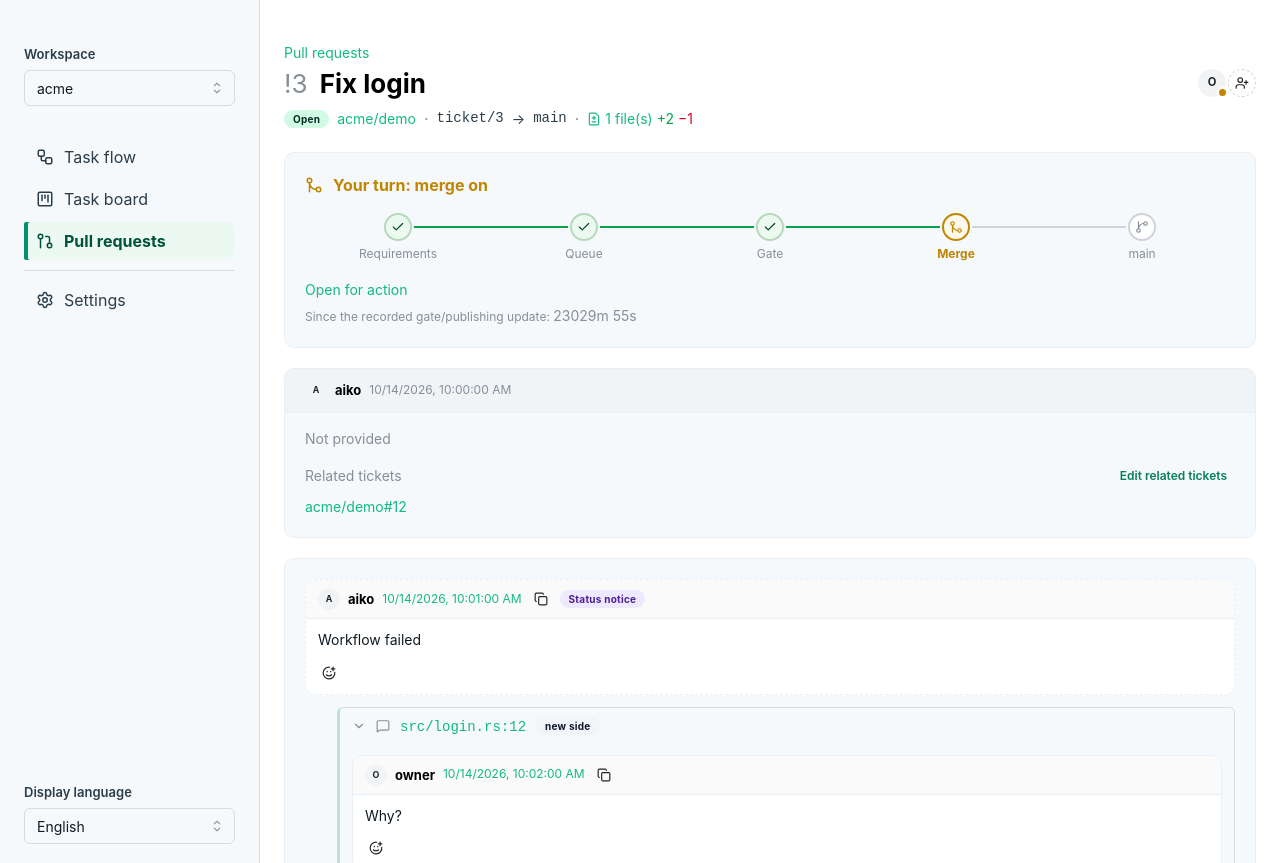
Test: related ticket editor › keeps the opened revision across events, explains a conflict, and reopens on the latest state (en)
Step 1. Click the button "Edit related tickets" → (1173, 476), box left=1112, top=465, right=1235, bottom=487
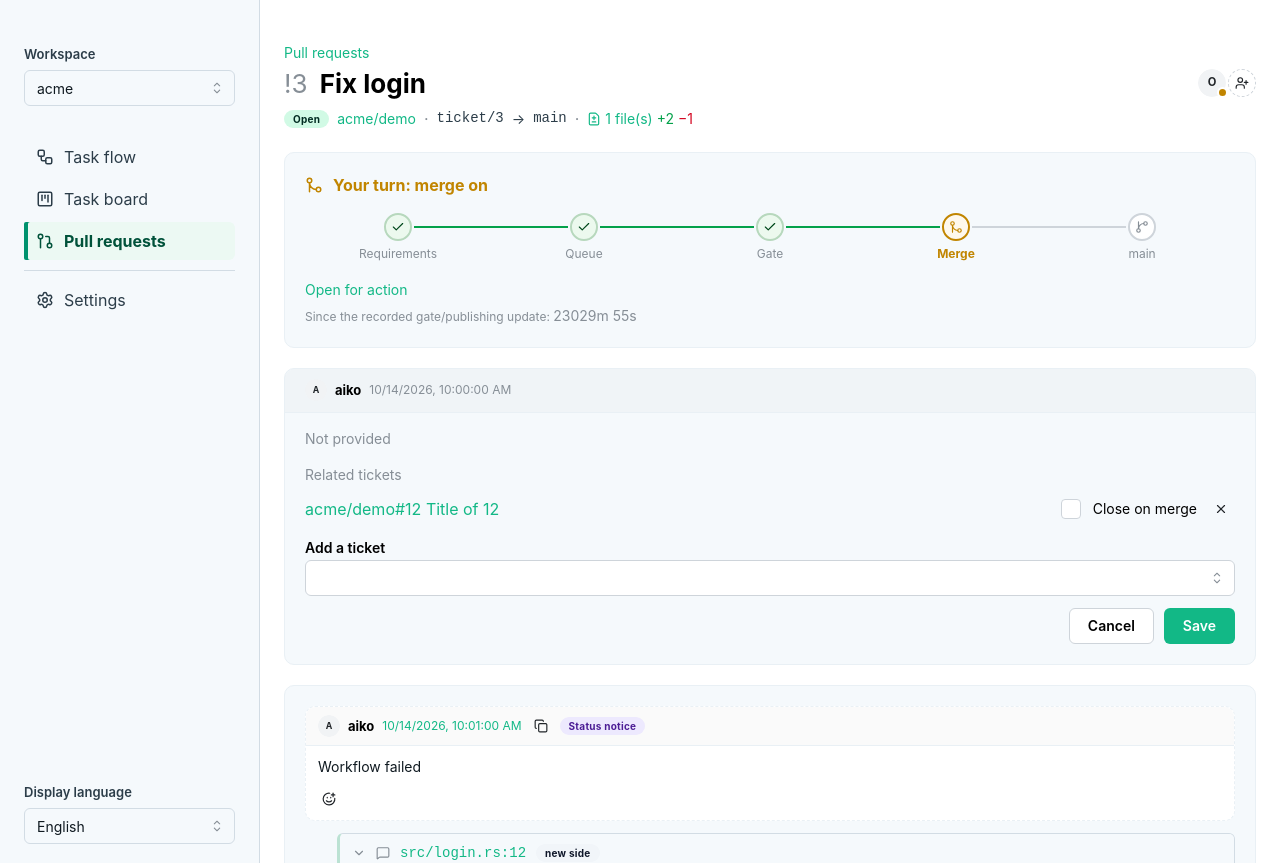
Expected: the checkbox is not checked, left=1061, top=499, right=1081, bottom=519
Step 2. Click the button "Save" → (1199, 626), box left=1164, top=608, right=1235, bottom=644
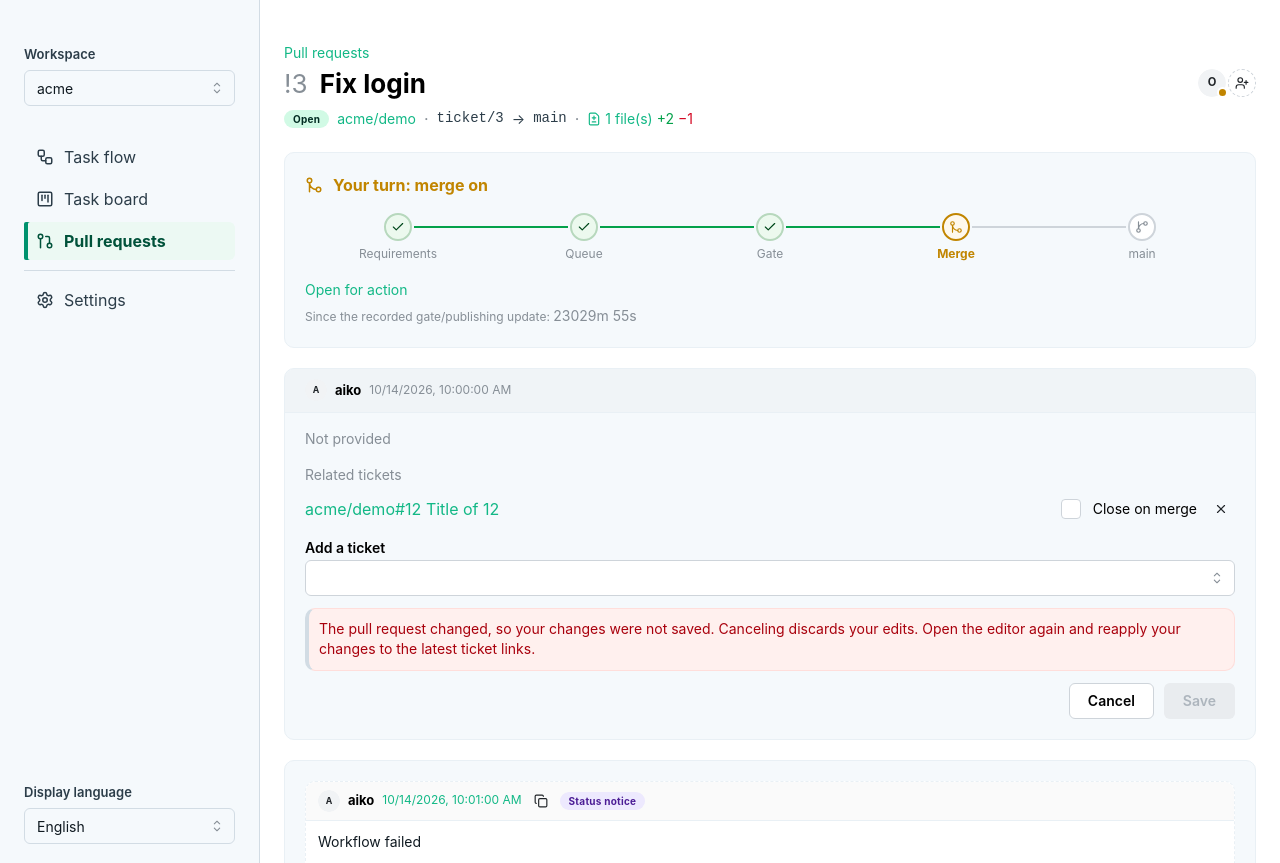
Expected: the message shows "Canceling discards your edits", left=319, top=620, right=1181, bottom=657
Expected: the message shows "reapply your changes", left=319, top=620, right=1181, bottom=657
Expected: the button "Save" is disabled, left=1164, top=682, right=1235, bottom=718
Step 3. Click the button "Cancel" → (1111, 700), box left=1069, top=682, right=1154, bottom=718
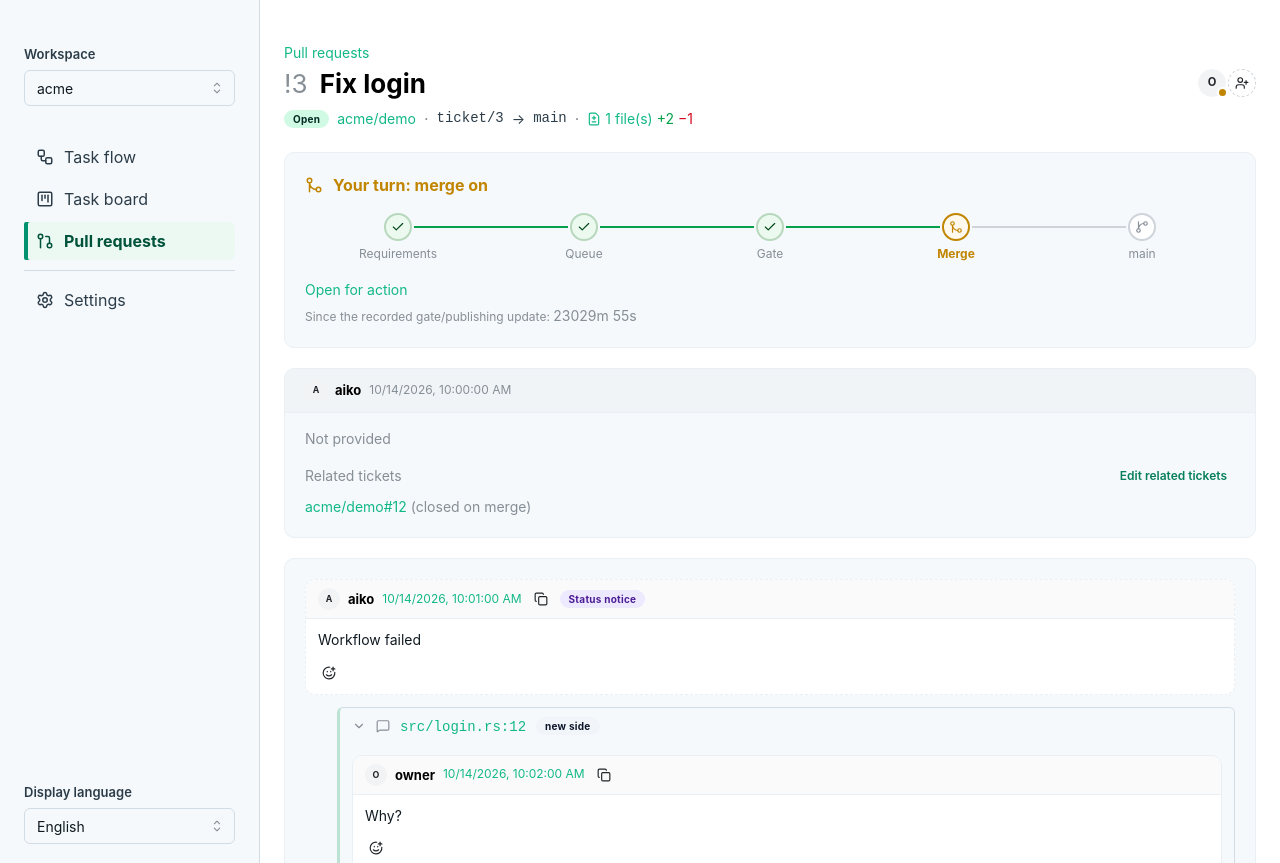
Step 4. Click the button "Edit related tickets" → (1173, 476), box left=1112, top=465, right=1235, bottom=487
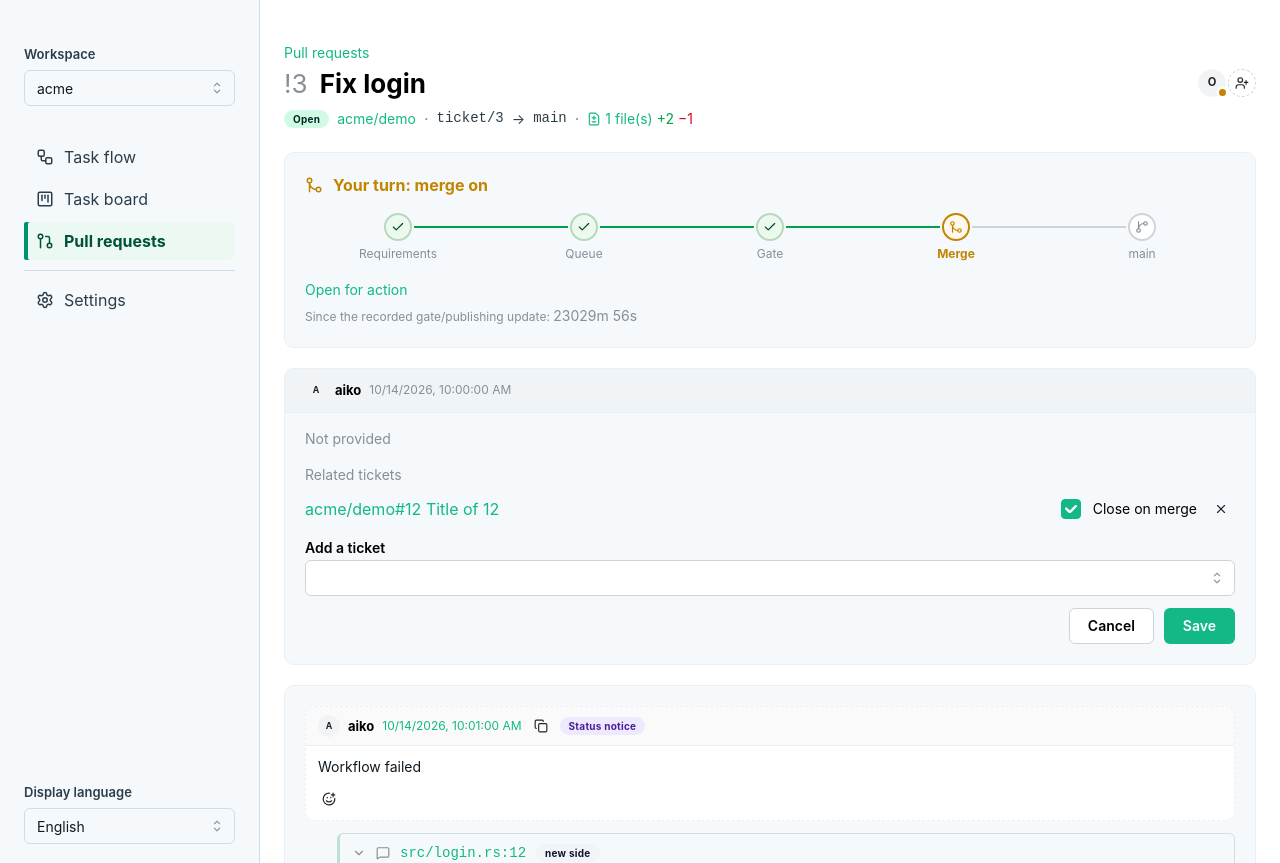
Expected: the checkbox is checked, left=1061, top=499, right=1081, bottom=519
